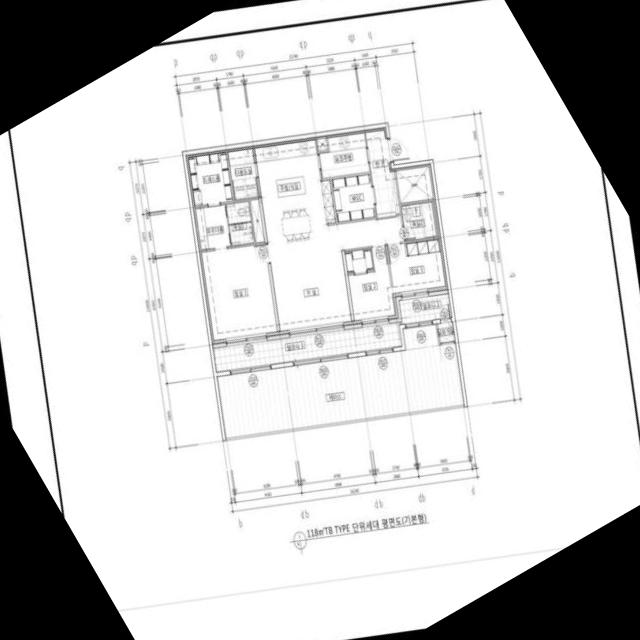background: (0, 0, 640, 640)
space_balconi: (212, 322, 401, 372), (399, 294, 451, 324)
space_bedroom: (201, 244, 278, 344), (344, 246, 395, 323), (387, 239, 445, 296)
space_dressroom: (188, 152, 232, 206)
space_front: (365, 130, 400, 216)
space_kitchen: (254, 140, 335, 245), (319, 133, 369, 178)
space_living_room: (268, 216, 404, 334)
space_other: (331, 174, 375, 222), (228, 149, 259, 200), (195, 205, 230, 249), (395, 167, 432, 202), (250, 199, 264, 243), (317, 138, 327, 151)
space_outdoor_room: (437, 322, 455, 343)
space_toilet: (401, 201, 436, 241), (225, 201, 254, 246)
